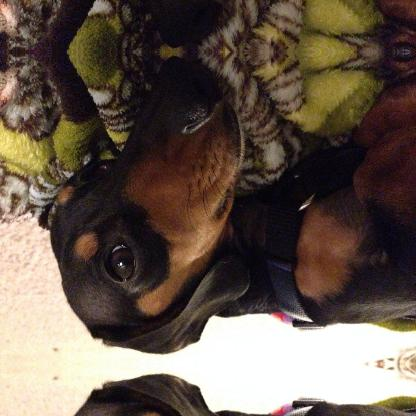Dog: (35, 52, 415, 354)
